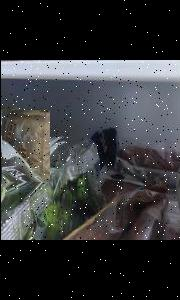Pan de sandwich: (0, 110, 49, 182)
